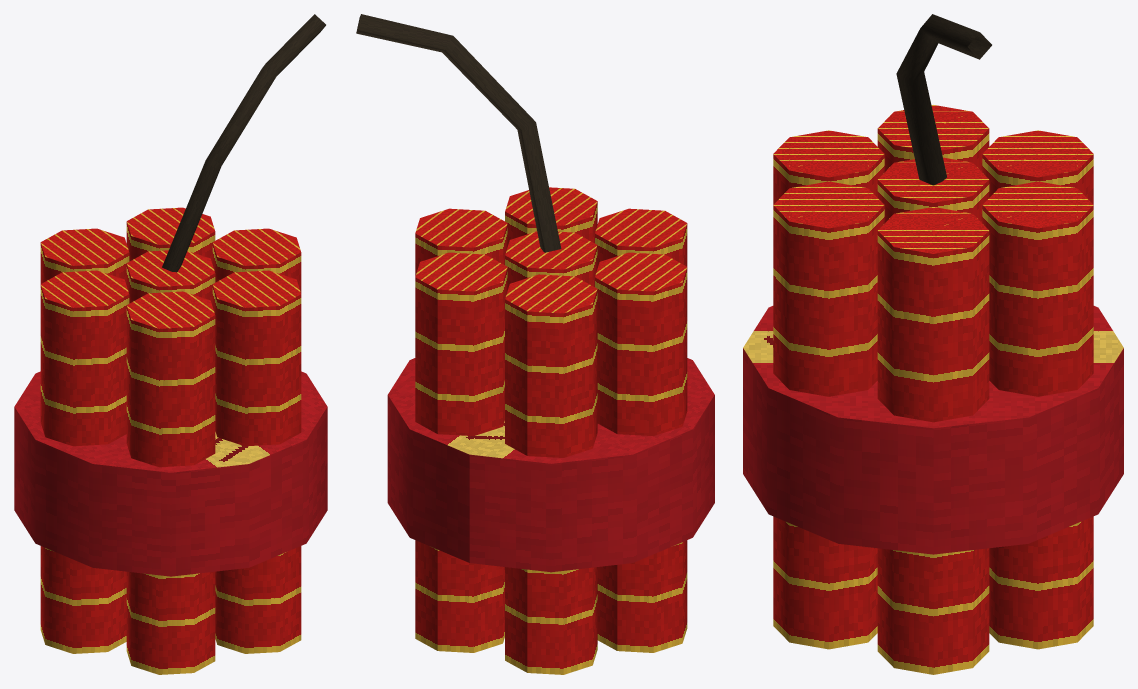
Rendered from item_firecracker.glb.
3 renders of one model, left to right at view 1: azimuth 30°, elevation 25°; view 2: azimuth 150°, elevation 25°; view 3: azimuth 270°, elevation 25°, orthographic. The views are drawn at different scales.
Parts seen in each view (by area): view 1: item_firecracker; view 2: item_firecracker; view 3: item_firecracker.
Boxes of the visible parts, box(x1,y1,x2,y2) form: item_firecracker: box(14, 14, 327, 674); item_firecracker: box(356, 14, 714, 674); item_firecracker: box(743, 14, 1123, 674).
Bounding box in the file's own units: 0.0923 × 0.1579 × 0.082.
Materials: 3 (3 with a texture image).
